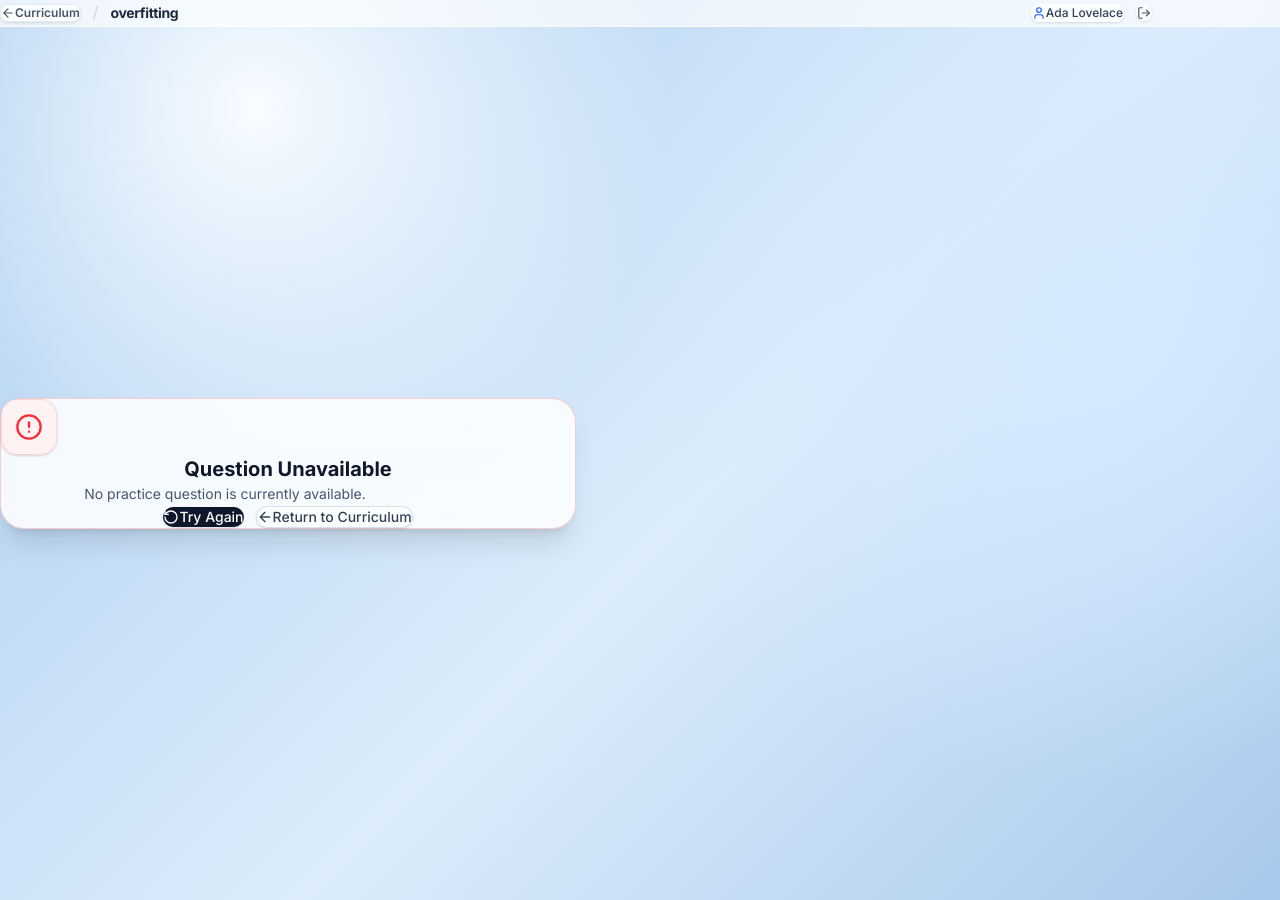
it: LearningSessionPage component › displays error message and allows retry when question fetch fails
Check: the text "No practice question is currently available." is shown, box [84,485,366,502]
Click the button "Try Again": [204, 517] box [163,507,244,527]
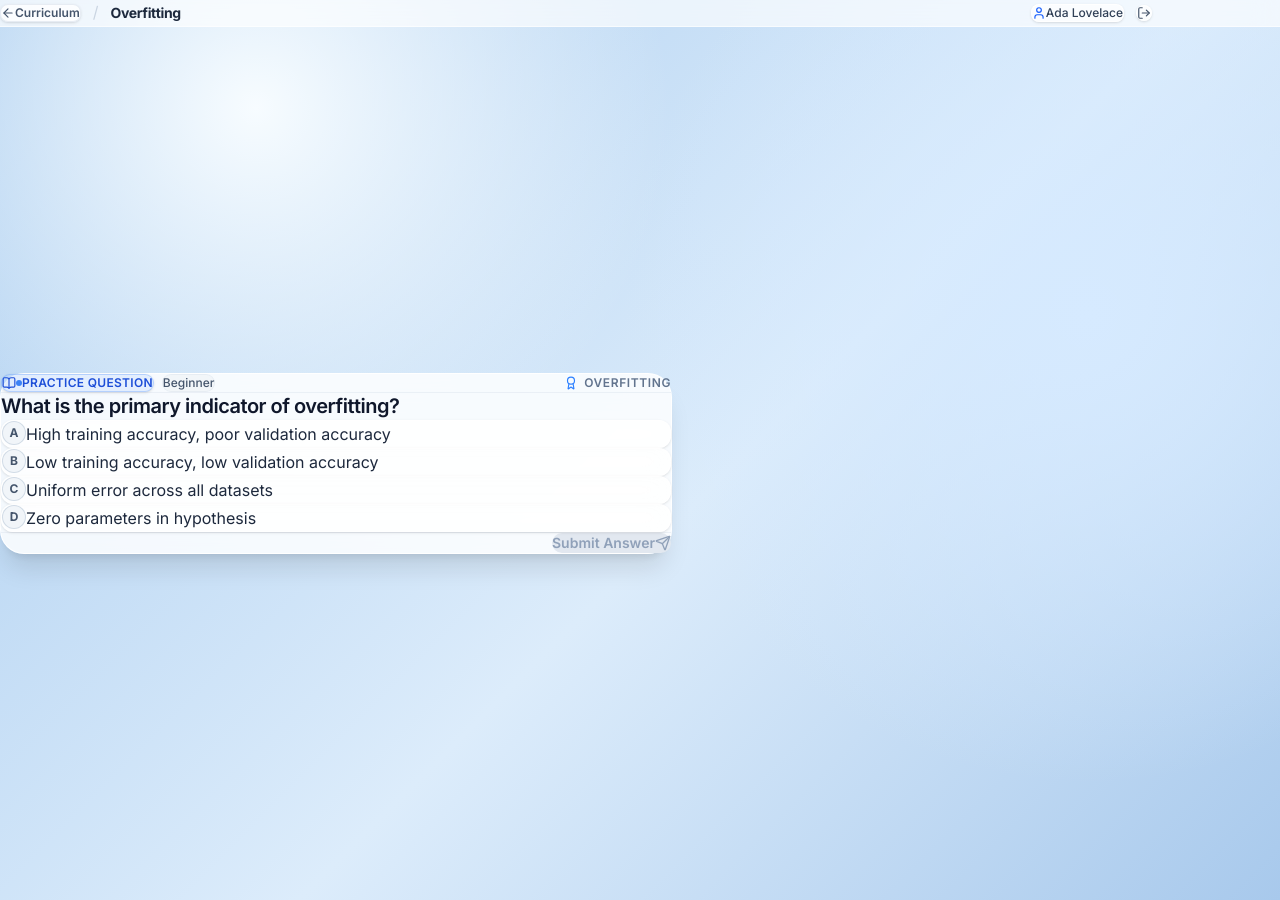
Check: the heading "What is the primary indicator of overfitting?" is shown, box [1,394,399,418]
